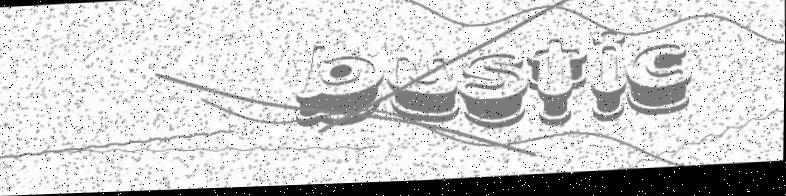b: (294, 43, 386, 130)
c: (627, 46, 694, 122)
i: (588, 33, 628, 127)
s: (460, 54, 529, 133)
t: (526, 40, 588, 131)
u: (386, 57, 461, 129)
